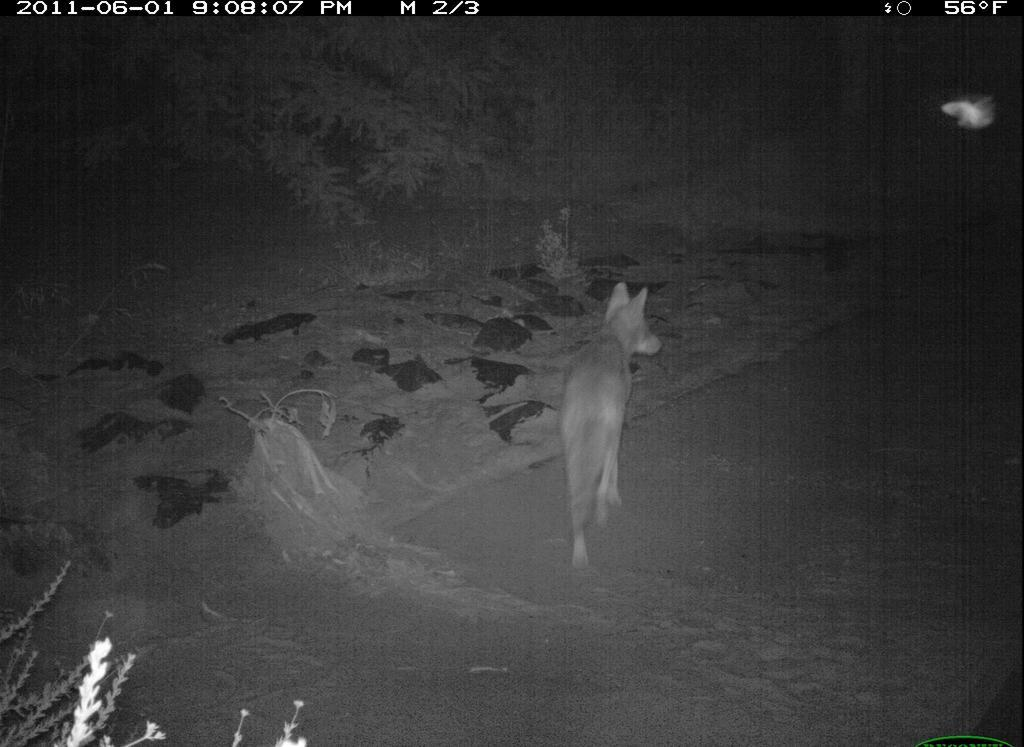coyote: (557, 274, 667, 583)
